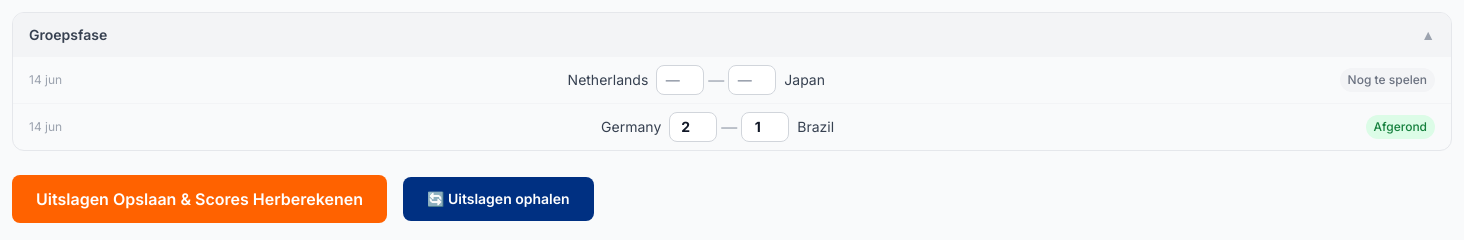
Test case: AdminMatchResults › shows success status after successful save
The width and height of the screenshot is (1464, 240).
Click the button "Uitslagen Opslaan & Scores Herberekenen" at (199, 199), box [12,175,387,223]
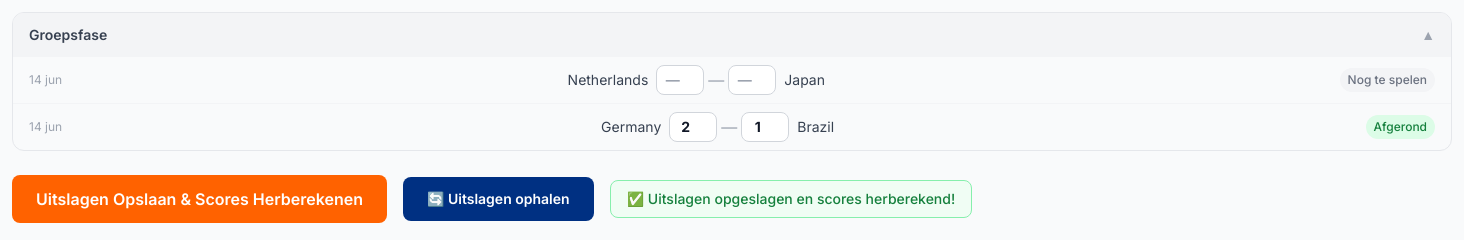
Check: the text "✅ Uitslagen opgeslagen en scores herberekend!" is shown, box [610,180,972,218]
